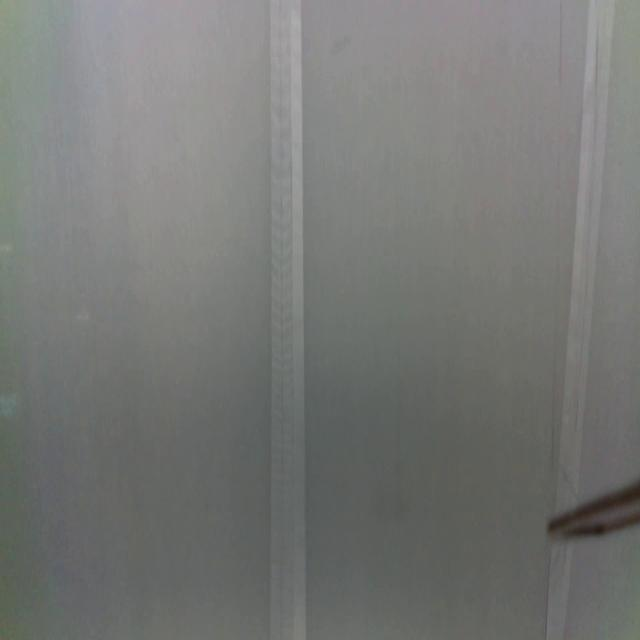crease: (558, 3, 617, 481), (269, 0, 307, 640), (547, 2, 564, 470), (543, 546, 556, 640)
